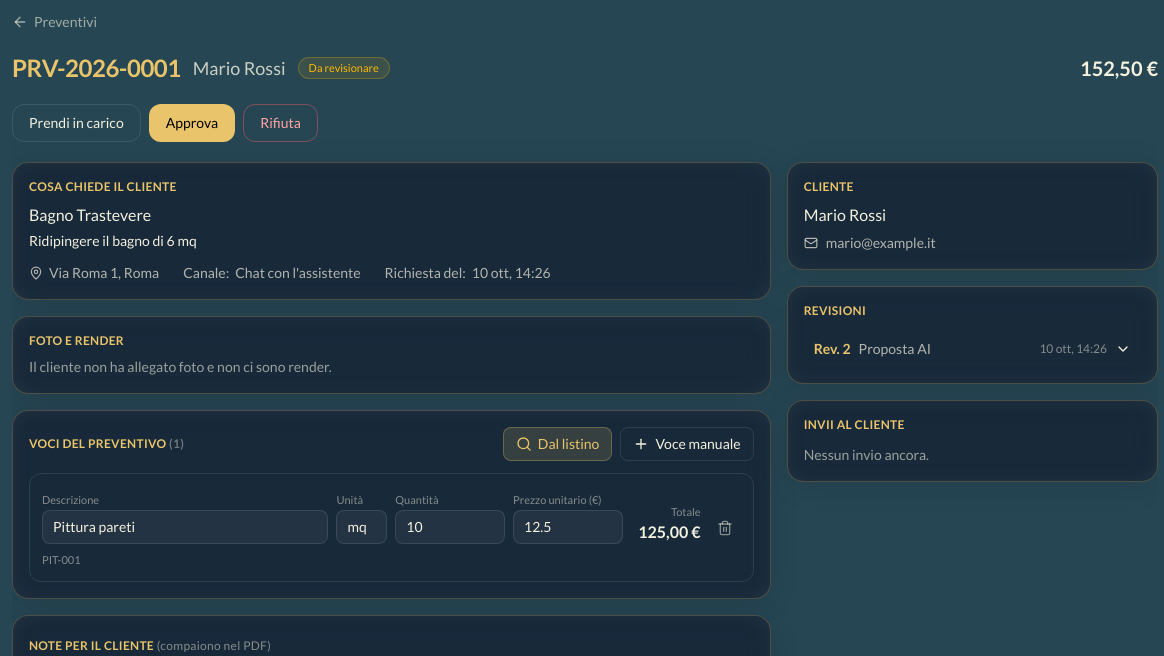
Test: DossierView › refuses to save invalid lines and says which
Clear the number field with test id "item-qty-0": (450, 527) x1=395 y1=510 x2=505 y2=544
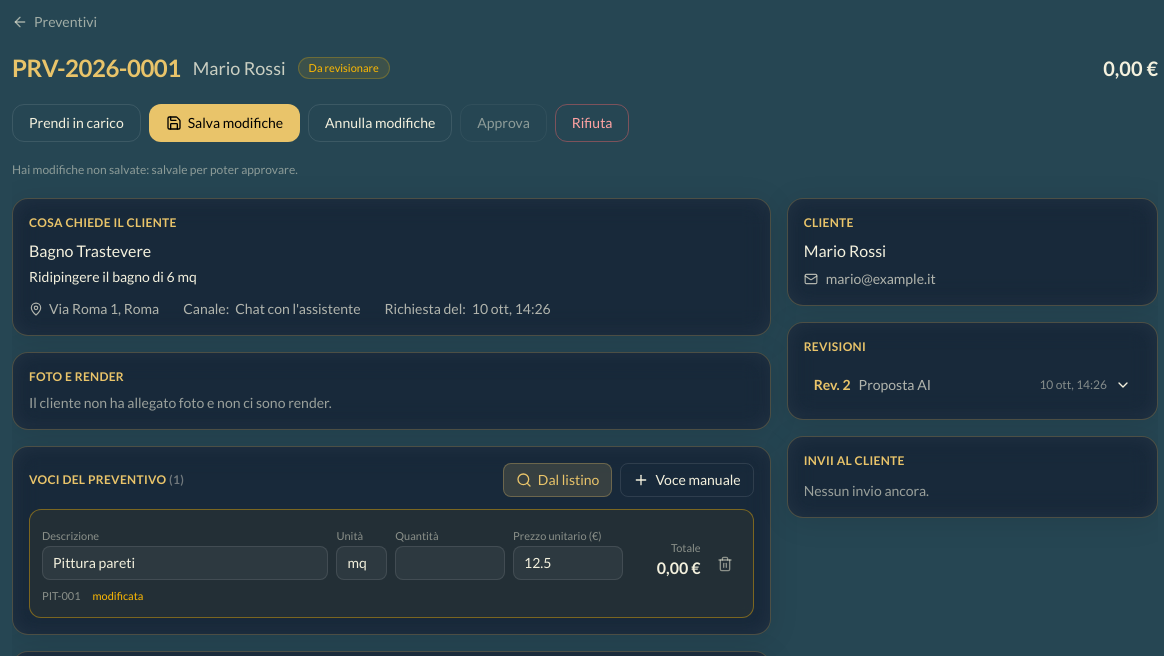
Click the button with test id "btn-save": (224, 123) x1=149 y1=104 x2=300 y2=142
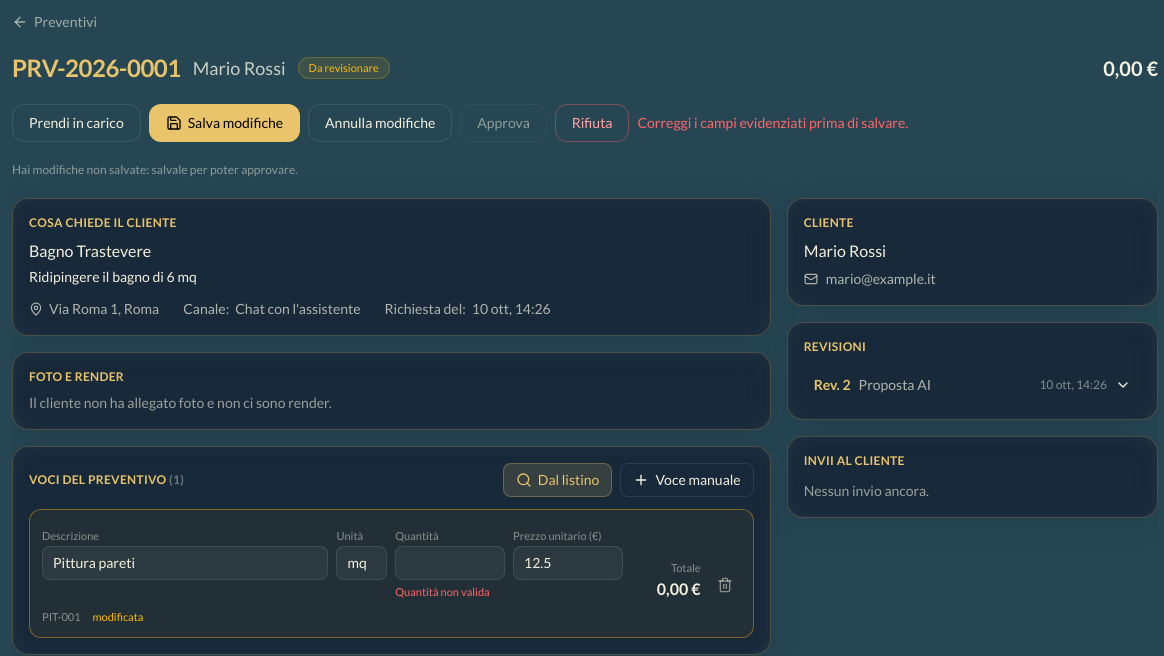
Now the text "Quantità non valida" is shown, box x1=395 y1=584 x2=505 y2=600
